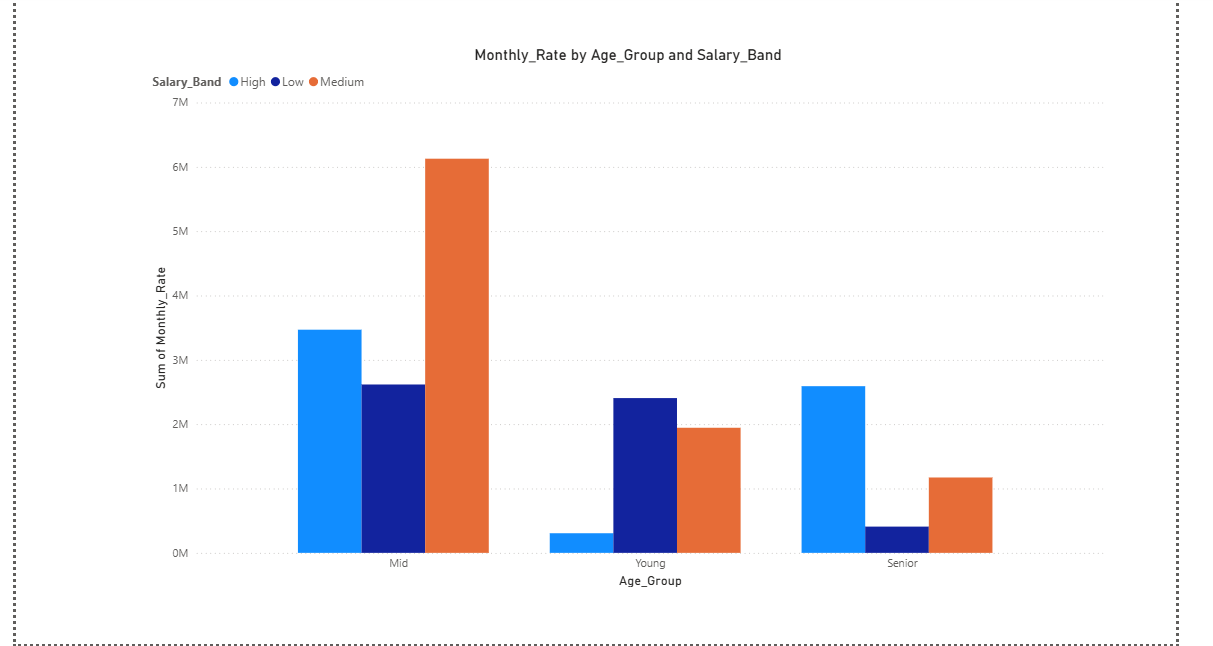

Layout of this report page (visuals, bound fields, positions):
{"tool":"powerbi","page":{"name":"Salary Band","canvas":[1280,720],"ordinal":2},"visuals":[{"type":"clusteredColumnChart","title":"Monthly_Rate by Age_Group and Salary_Band","fields":{"Y":["Sum(Age_Group.Monthly_Rate)"],"Category":["Age_Group.Age_Group"],"Series":["Age_Group.Salary_Band"]},"box":[145.8,58,1060.1,603],"z":0}]}

Visuals, with their boxes on the page's 1280x720 design canvas (x1, y1, x2, y2). These are canvas units, not pixel positions in the 1213x646 screenshot, which may show the page scaled, cropped or inside an application window:
"Monthly_Rate by Age_Group and Salary_Band" clusteredColumnChart: pyautogui.locateOnScreen(146, 58, 1206, 661)
